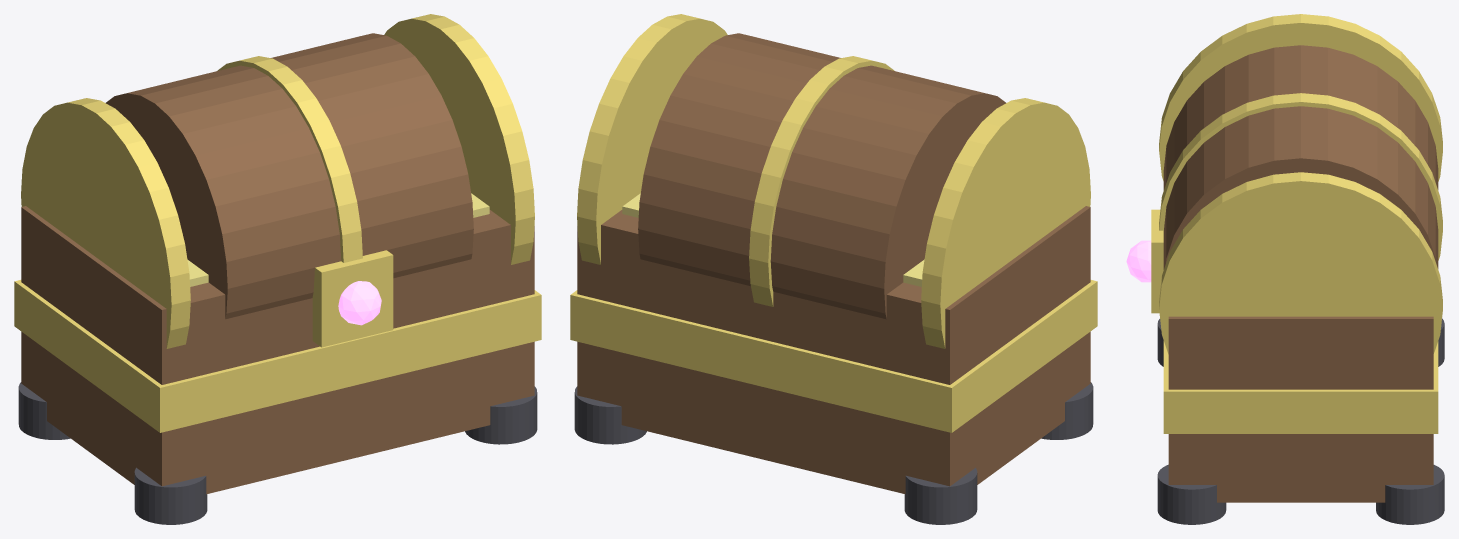
Rendered from Cofre_Ancestral_Deluxe.fbx.
3 renders of one model, left to right at view 1: azimuth 30°, elevation 25°; view 2: azimuth 150°, elevation 25°; view 3: azimuth 270°, elevation 25°, orthographic. The views are drawn at different scales.
Visible parts, largest first — view 1: Chest_Box, Chest_Lid, Cube, Cylinder.004, Cylinder.006, Cylinder.005, Cube.001, Cylinder, Cylinder.002, Cylinder.001, Icosphere, Cube.002; view 2: Chest_Box, Chest_Lid, Cube, Cylinder.004, Cylinder.006, Cylinder.005, Cylinder.001, Cylinder.003, Cylinder, Cube.002; view 3: Chest_Box, Cylinder.006, Chest_Lid, Cube, Cylinder.004, Cylinder.005, Cylinder.002, Cylinder.003, Cube.001, Icosphere.
Part boxes in pixels (x1=…): Chest_Box: x1=21, y1=206, x2=534, y2=494; Chest_Lid: x1=106, y1=33, x2=473, y2=319; Cube: x1=14, y1=280, x2=541, y2=432; Cylinder.004: x1=21, y1=98, x2=190, y2=348; Cylinder.006: x1=384, y1=14, x2=534, y2=264; Cylinder.005: x1=217, y1=56, x2=362, y2=262; Cube.001: x1=312, y1=250, x2=393, y2=347; Cylinder: x1=134, y1=467, x2=207, y2=524; Cylinder.002: x1=465, y1=386, x2=537, y2=444; Cylinder.001: x1=18, y1=382, x2=70, y2=439; Icosphere: x1=338, y1=281, x2=381, y2=325; Cube.002: x1=187, y1=193, x2=489, y2=286; Chest_Box: x1=577, y1=206, x2=1090, y2=494; Chest_Lid: x1=638, y1=33, x2=1005, y2=319; Cube: x1=570, y1=280, x2=1097, y2=432; Cylinder.004: x1=921, y1=98, x2=1090, y2=348; Cylinder.006: x1=577, y1=14, x2=727, y2=264; Cylinder.005: x1=749, y1=56, x2=894, y2=306; Cylinder.001: x1=904, y1=467, x2=977, y2=524; Cylinder.003: x1=574, y1=386, x2=646, y2=444; Cylinder: x1=1041, y1=382, x2=1093, y2=439; Cube.002: x1=622, y1=193, x2=924, y2=286; Chest_Box: x1=1168, y1=316, x2=1433, y2=502; Cylinder.006: x1=1159, y1=172, x2=1442, y2=354; Chest_Lid: x1=1163, y1=45, x2=1438, y2=269; Cube: x1=1163, y1=341, x2=1438, y2=433; Cylinder.004: x1=1159, y1=14, x2=1442, y2=181; Cylinder.005: x1=1159, y1=93, x2=1442, y2=260; Cylinder.002: x1=1157, y1=464, x2=1226, y2=524; Cylinder.003: x1=1376, y1=465, x2=1444, y2=524; Cube.001: x1=1151, y1=209, x2=1163, y2=313; Icosphere: x1=1126, y1=240, x2=1151, y2=282.
Bounding box in the file's own units: 274 × 239 × 204.
